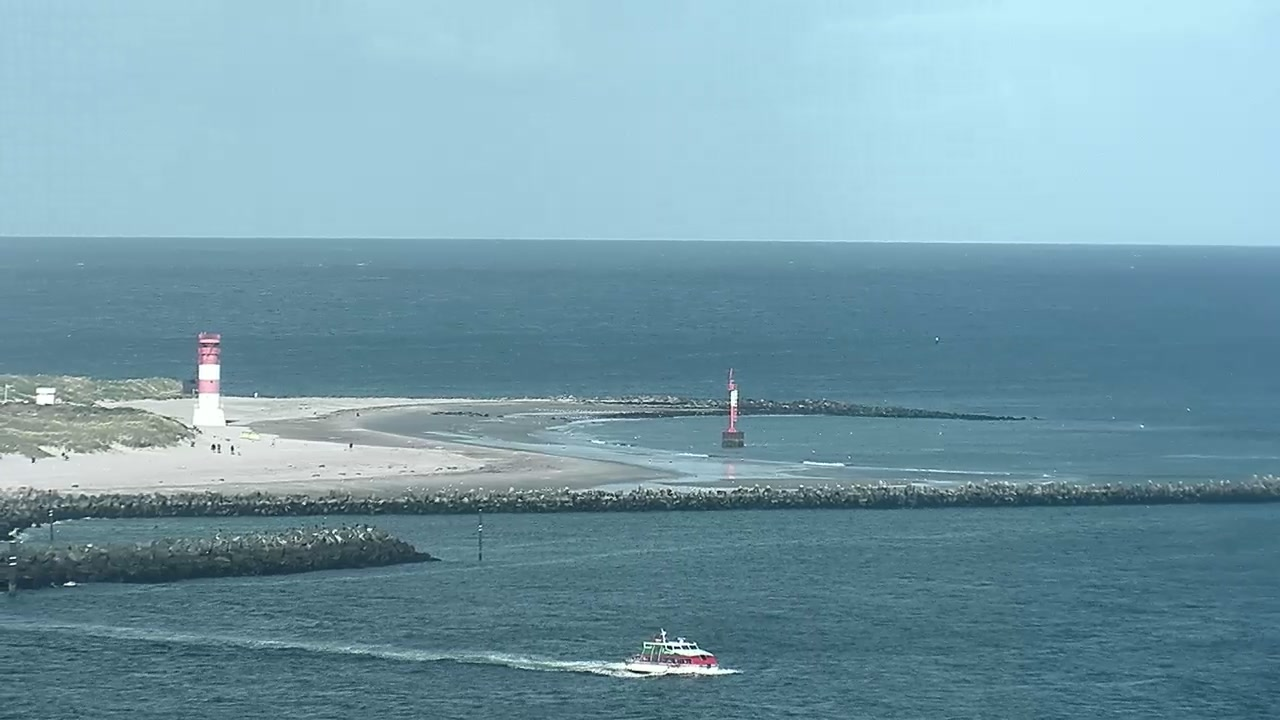human: (216, 440, 222, 454), (210, 442, 216, 454), (30, 454, 36, 465), (230, 442, 235, 454), (349, 441, 354, 451), (61, 450, 66, 459), (64, 453, 69, 461)
sea: (623, 626, 719, 679)
